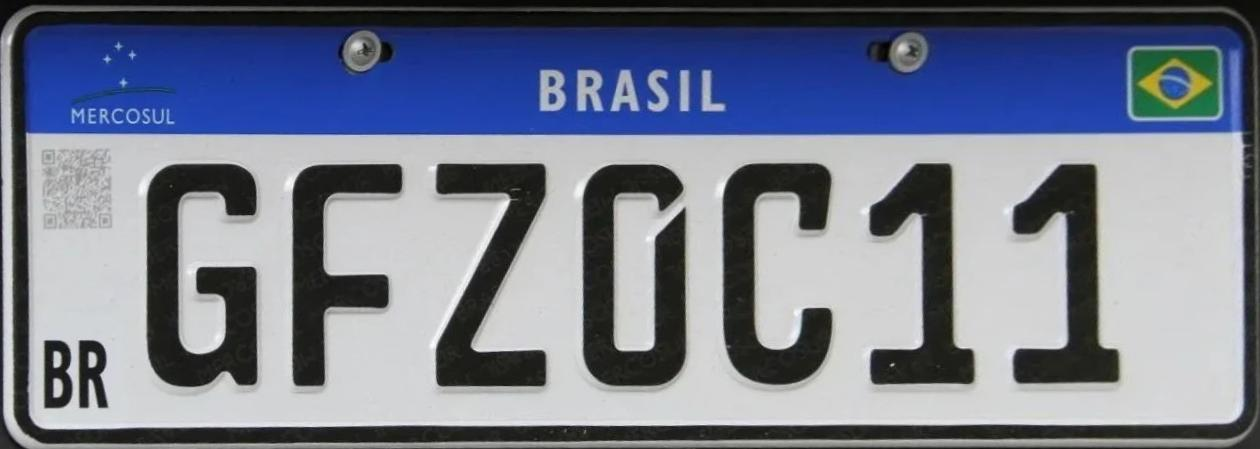Placa_mercosul_carro: (1, 2, 1260, 449)
